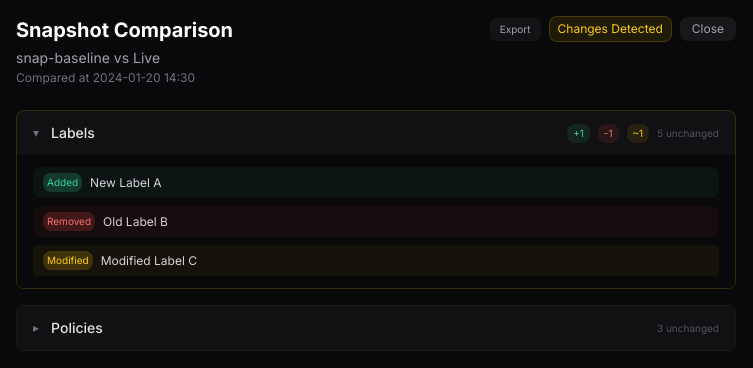
Test: SnapshotDiffView › toggles category expansion on click
The image size is (753, 368).
Expected: the text "New Label A" is shown, [90,174,162,190]
# Click to collapse
Click the text "Labels": click(73, 133) [51,123,95,143]
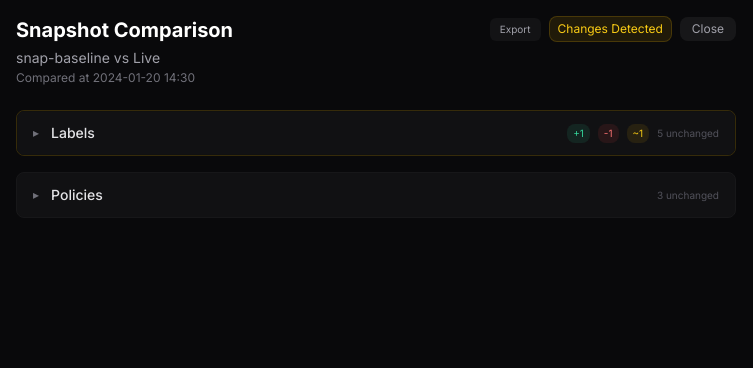
Now the text "New Label A" is gone
# Click to expand again
Click the text "Labels": click(73, 133) [51,123,95,143]
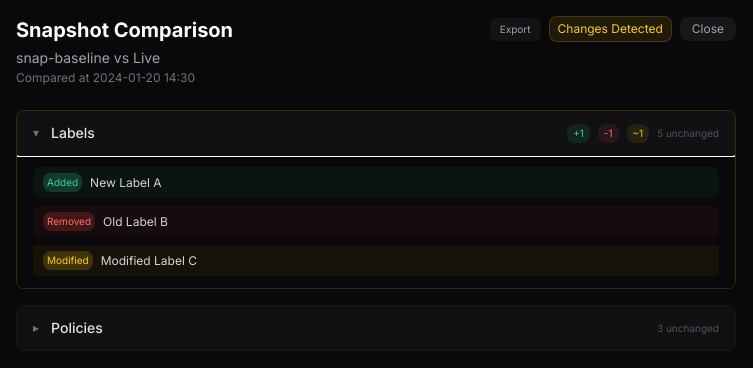
Now the text "New Label A" is shown, box [90,174,162,190]
